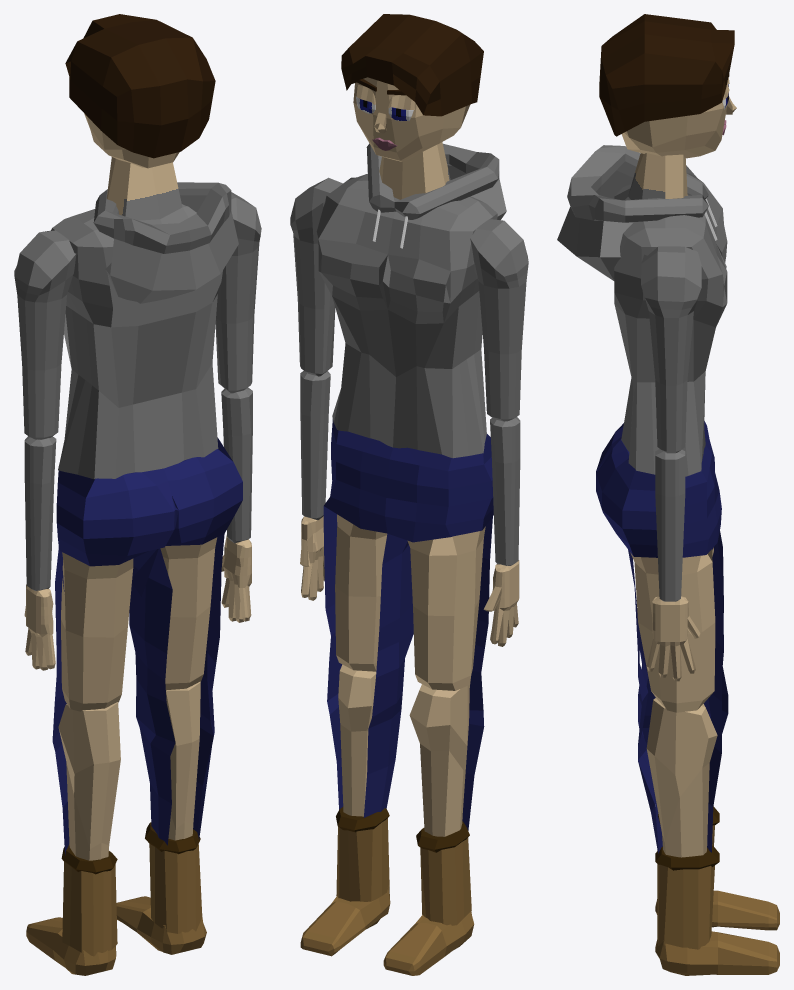
The model's file is player_male.gltf.
3 renders of one model, left to right at view 1: azimuth 30°, elevation 25°; view 2: azimuth 150°, elevation 25°; view 3: azimuth 270°, elevation 25°, orthographic. The views are drawn at different scales.
Parts seen in each view (by area): view 1: Torso + Neck, head + hair, plane, L Pants, hoodie, R Thigh, R Bicep, R Calve, L Bicep, L Thigh, R Boot, R Forearm (+11 smaller); view 2: Torso + Neck, plane, L Pants, R Thigh, head + hair, R Bicep, R Calve, L Thigh, L Bicep, hoodie, L Calve, Head (+11 smaller); view 3: Torso + Neck, head + hair, hoodie, L Bicep, plane, L Calve, L Thigh, L Boot, L Pants, L Forearm, L Foot, Head (+4 smaller).
Part boxes in pixels (bbox=[...]): Torso + Neck: bbox=[51, 157, 223, 479]; head + hair: bbox=[65, 14, 215, 158]; plane: bbox=[56, 437, 242, 566]; L Pants: bbox=[129, 534, 224, 845]; hoodie: bbox=[93, 182, 238, 303]; R Thigh: bbox=[61, 552, 133, 711]; R Bicep: bbox=[14, 230, 76, 439]; R Calve: bbox=[58, 702, 120, 860]; L Bicep: bbox=[215, 192, 261, 393]; L Thigh: bbox=[160, 537, 217, 690]; R Boot: bbox=[62, 861, 117, 956]; R Forearm: bbox=[24, 436, 56, 590]; Torso + Neck: bbox=[316, 142, 497, 458]; plane: bbox=[324, 419, 493, 542]; L Pants: bbox=[323, 506, 413, 817]; R Thigh: bbox=[407, 526, 485, 690]; head + hair: bbox=[341, 14, 483, 116]; R Bicep: bbox=[470, 219, 528, 421]; R Calve: bbox=[409, 684, 469, 836]; L Thigh: bbox=[335, 514, 387, 671]; L Bicep: bbox=[290, 177, 342, 376]; hoodie: bbox=[366, 143, 506, 248]; L Calve: bbox=[338, 664, 376, 816]; Head: bbox=[353, 77, 470, 161]; Torso + Neck: bbox=[614, 153, 727, 476]; head + hair: bbox=[599, 14, 734, 136]; hoodie: bbox=[557, 145, 717, 280]; L Bicep: bbox=[641, 246, 701, 453]; plane: bbox=[596, 421, 721, 557]; L Calve: bbox=[646, 698, 717, 857]; L Thigh: bbox=[630, 549, 715, 712]; L Boot: bbox=[657, 864, 714, 949]; L Pants: bbox=[628, 543, 723, 853]; L Forearm: bbox=[655, 449, 685, 601]; L Foot: bbox=[655, 931, 779, 975]; Head: bbox=[621, 101, 727, 158].
Size of the model in its own units: 0.1938 by 0.737 by 0.162.
16 materials, 16 textured.
